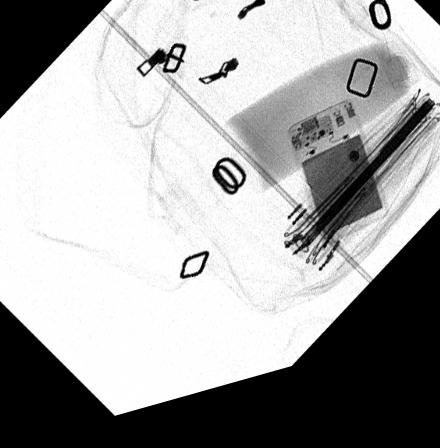Powerbank: (285, 114, 390, 266)
